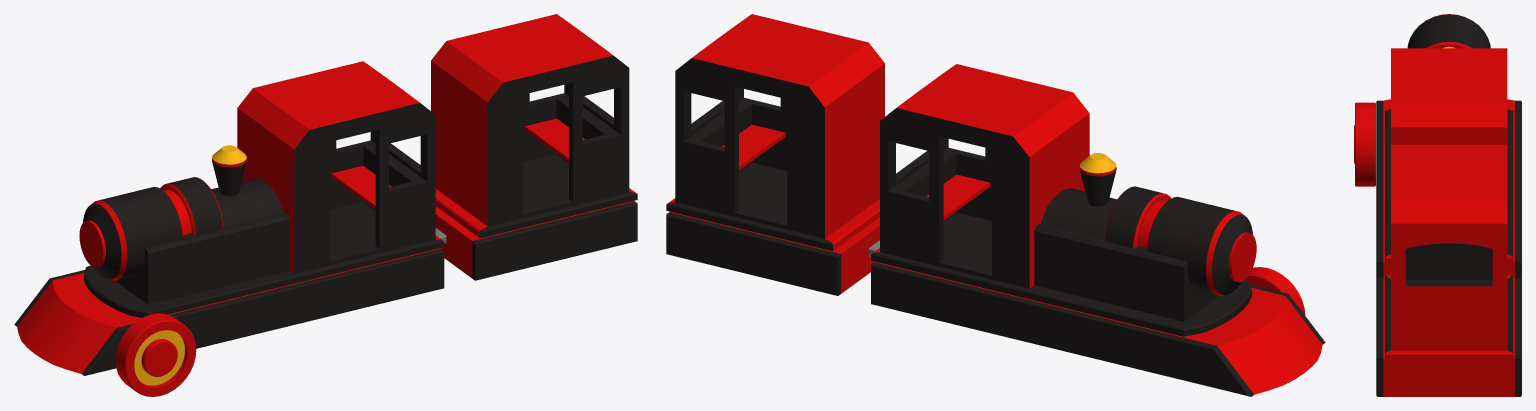
Rendered from Locomotive.fbx.
3 views of the same model, side by side, from view 1: azimuth 30°, elevation 25°; view 2: azimuth 150°, elevation 25°; view 3: azimuth 270°, elevation 25° (orthographic). The views are drawn at different scales.
Visible parts, largest first — view 1: Locomotive, Carriage, Locomotive_wheel; view 2: Locomotive, Carriage, Locomotive_wheel; view 3: Carriage, Locomotive, Locomotive_wheel.
Part boxes in pixels (box(x1,y1,x2,y2)): Locomotive: box(14, 61, 444, 375); Carriage: box(431, 14, 637, 280); Locomotive_wheel: box(115, 313, 196, 396); Locomotive: box(871, 64, 1325, 396); Carriage: box(666, 14, 884, 295); Locomotive_wheel: box(1245, 267, 1305, 315); Carriage: box(1376, 144, 1521, 396); Locomotive: box(1376, 14, 1521, 278); Locomotive_wheel: box(1354, 102, 1375, 186).
Size of the model in its own units: 465 by 166 by 116.
